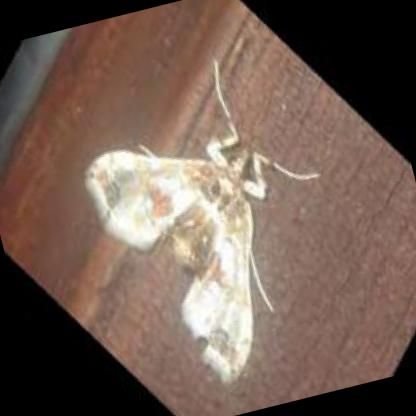leucinodes: (85, 135, 269, 387)
